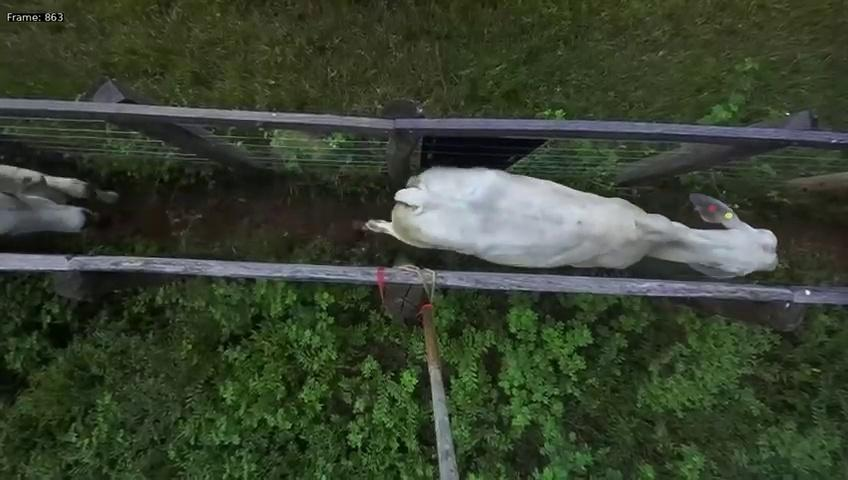cattle: (348, 129, 779, 279)
